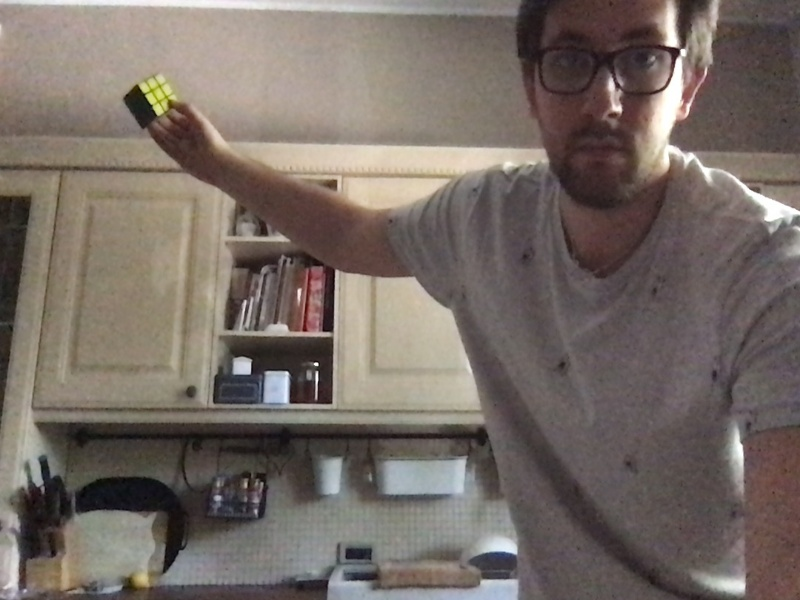rubik: (123, 74, 177, 130)
